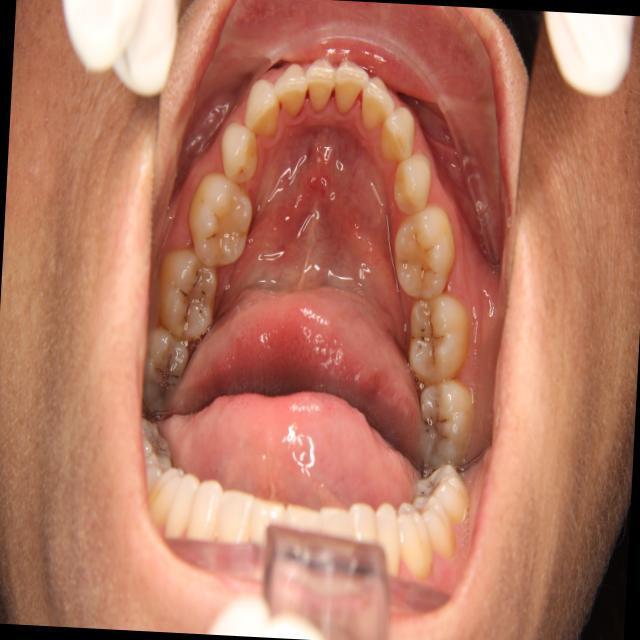tooth: (385, 192, 465, 306), (184, 165, 258, 273), (402, 286, 477, 389), (152, 243, 224, 348), (412, 371, 478, 472), (140, 321, 192, 421), (388, 145, 440, 221), (217, 118, 266, 191), (268, 57, 315, 125), (376, 98, 422, 165), (241, 73, 285, 143), (358, 67, 399, 137), (331, 52, 373, 120), (301, 52, 340, 116)
